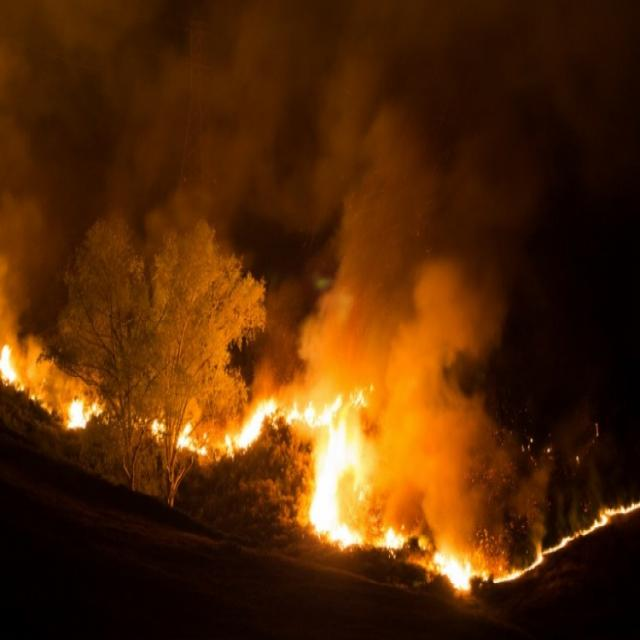Fire: (284, 395, 389, 549), (0, 339, 105, 430), (183, 409, 277, 463), (432, 543, 492, 600)
